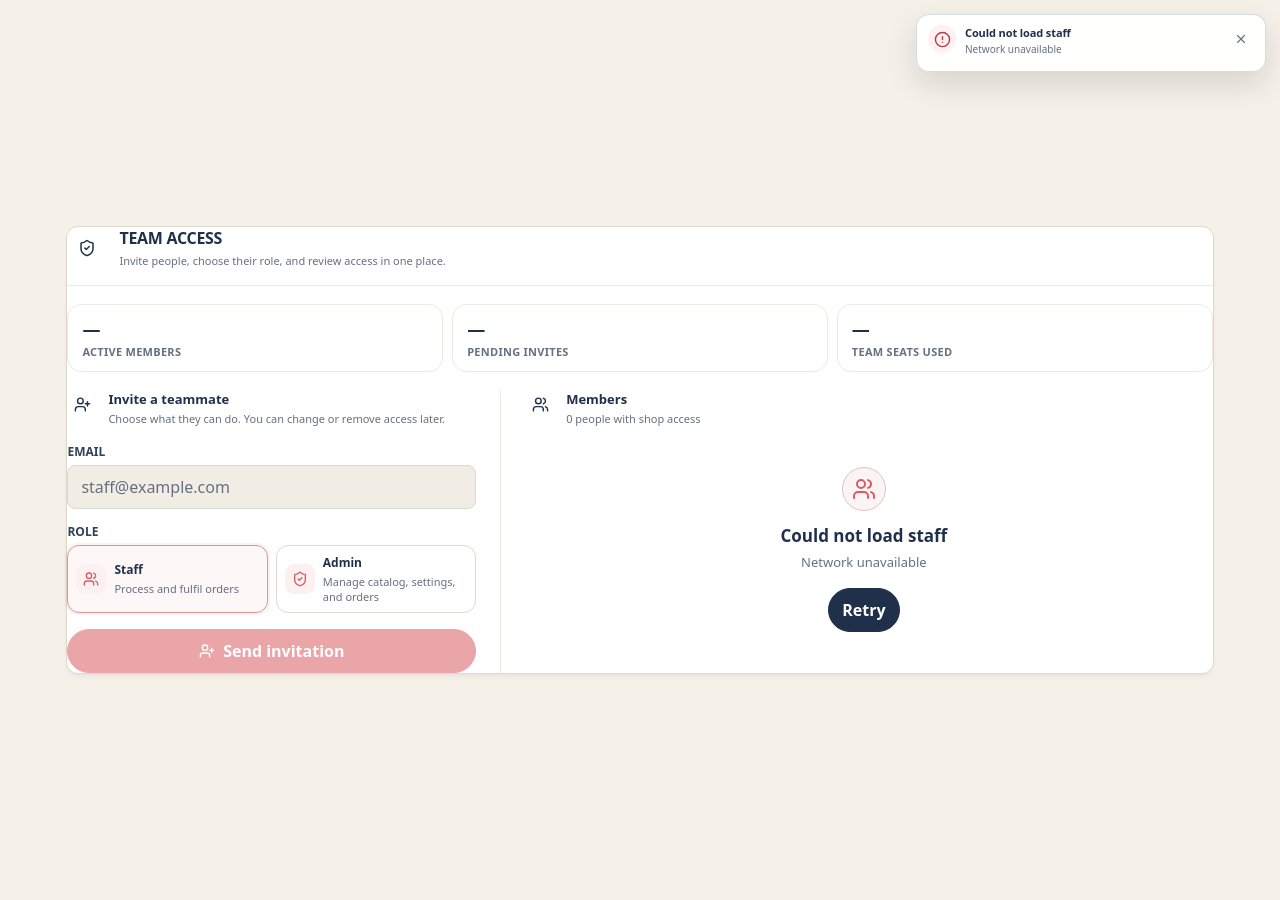
Test: StaffManager › keeps load failures distinct from a genuinely empty team
Expected: the heading "Could not load staff" is shown, top-left (780, 524), bottom-right (947, 546)
Expected: the text "No members yet" is not shown
Click the button "Retry".
click(864, 610)  # box top-left (828, 588), bottom-right (900, 632)
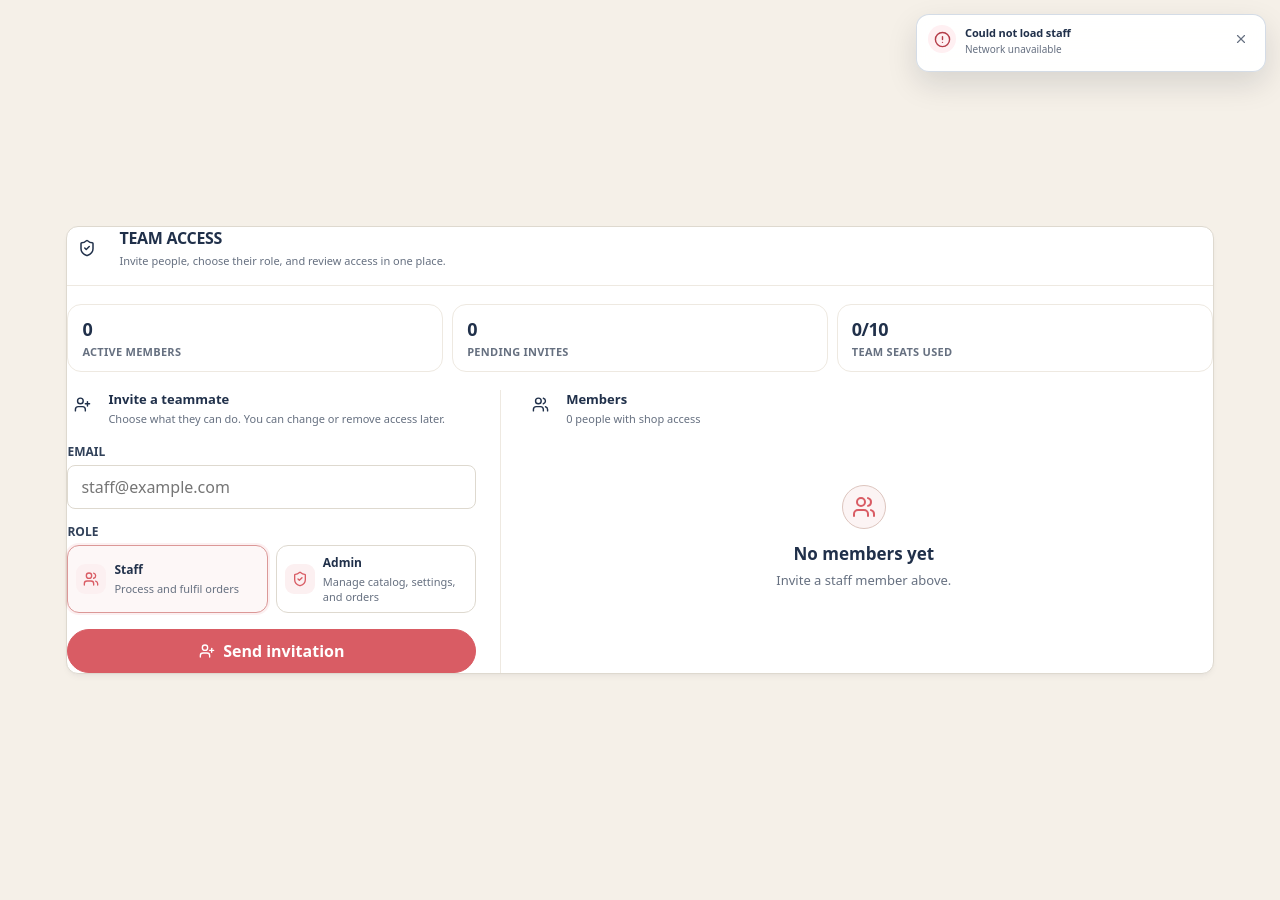
Expected: the heading "No members yet" is shown, top-left (794, 542), bottom-right (934, 565)
